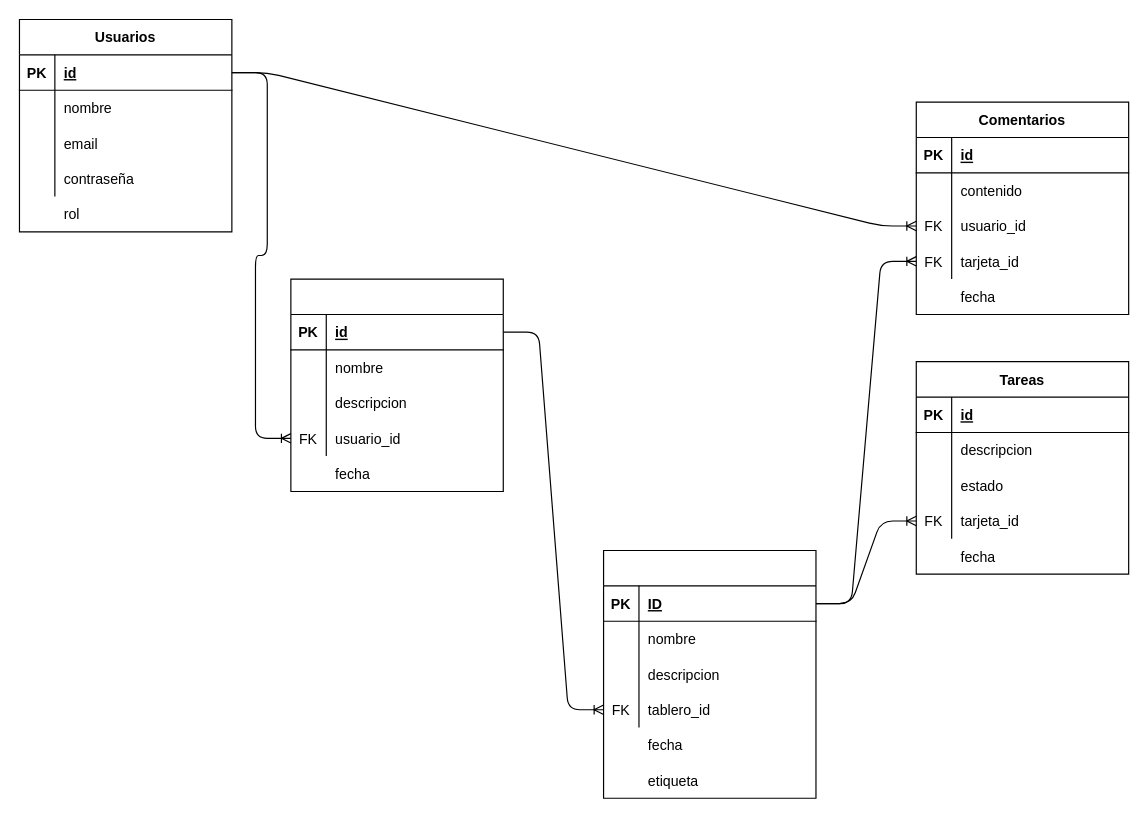
This 1148x818 diagram has some shape labels left out. The shapes that lost their labels are listed below. From the top down, each one's box as (x1, y1, x2, y2) in pixels, then its label:
(290, 278, 503, 491): Tableros
(602, 549, 816, 798): Tarjetas
